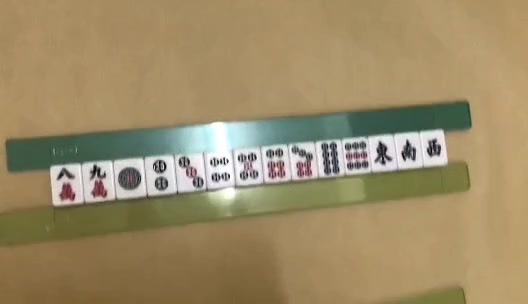1p: (118, 168, 141, 191)
1z: (374, 142, 392, 165)
2p: (153, 160, 169, 191)
2z: (401, 139, 416, 162)
3p: (179, 156, 203, 189)
3z: (427, 137, 442, 159)
4p: (210, 156, 230, 181)
5p: (236, 152, 260, 179)
6p: (267, 150, 286, 180)
7p: (292, 144, 313, 178)
8m: (54, 168, 75, 202)
8p: (320, 140, 341, 176)
9m: (89, 164, 108, 199)
9p: (345, 140, 369, 171)
